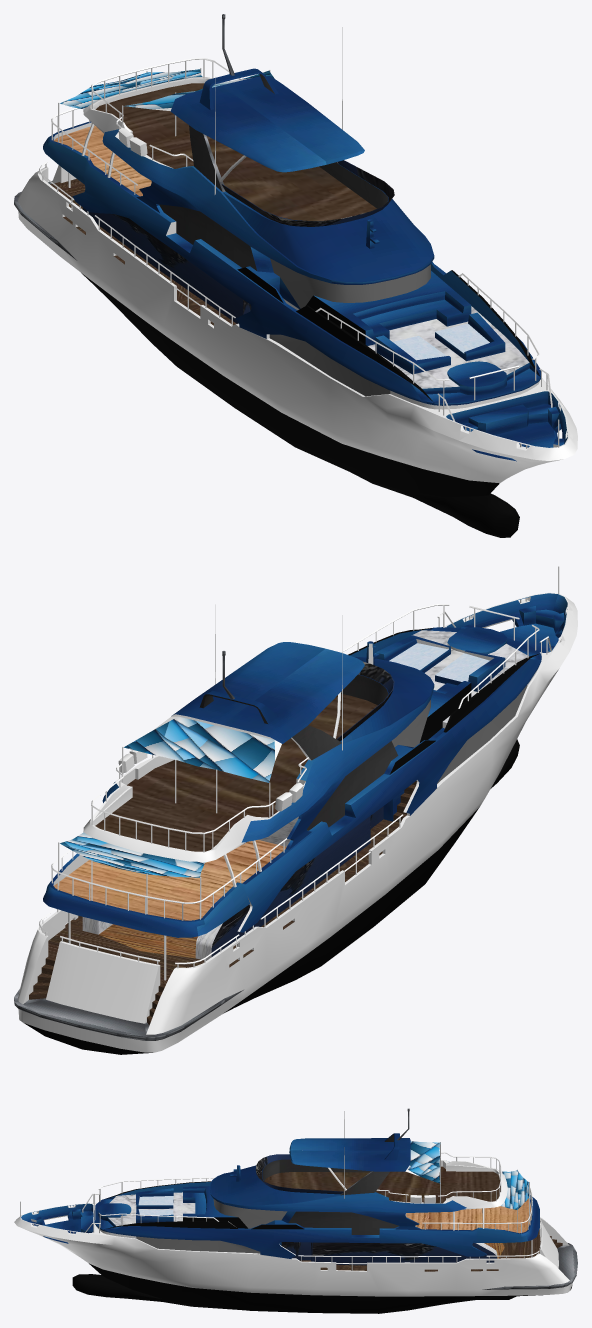
File: yatch_ii.glb
The picture shows the model from 3 angles, top to bottom: view 1: azimuth 30°, elevation 25°; view 2: azimuth 150°, elevation 25°; view 3: azimuth 270°, elevation 25°; orthographic projection. The views are drawn at different scales.
Visible parts, largest first — view 1: Object_10, Object_4, Object_6, Object_8, Object_5, Object_12, Object_11, Object_16, Object_7, Object_13, Object_9; view 2: Object_4, Object_10, Object_8, Object_6, Object_16, Object_7, Object_5, Object_12, Object_9, Object_11, Object_14, Object_13; view 3: Object_4, Object_10, Object_6, Object_8, Object_5, Object_12, Object_7, Object_16, Object_11, Object_9, Object_13.
Part boxes in pixels (x1,y1,x2,y2): Object_10: [43, 68, 567, 461]; Object_4: [18, 27, 577, 483]; Object_6: [81, 258, 540, 537]; Object_8: [50, 83, 376, 325]; Object_5: [82, 160, 394, 323]; Object_12: [159, 74, 388, 270]; Object_11: [368, 306, 529, 388]; Object_16: [60, 69, 274, 109]; Object_7: [54, 125, 151, 196]; Object_13: [393, 323, 489, 360]; Object_9: [14, 14, 338, 260]; Object_4: [18, 566, 577, 1052]; Object_10: [43, 593, 567, 937]; Object_8: [29, 694, 416, 1025]; Object_6: [24, 627, 541, 1054]; Object_16: [60, 716, 274, 877]; Object_7: [54, 840, 286, 920]; Object_5: [211, 661, 394, 956]; Object_12: [199, 674, 398, 830]; Object_9: [14, 651, 243, 1040]; Object_11: [82, 630, 528, 960]; Object_14: [99, 924, 197, 958]; Object_13: [389, 643, 489, 681]; Object_4: [14, 1111, 572, 1296]; Object_10: [21, 1133, 539, 1258]; Object_6: [72, 1181, 572, 1313]; Object_8: [264, 1166, 562, 1271]; Object_5: [255, 1154, 497, 1265]; Object_12: [262, 1134, 398, 1234]; Object_7: [406, 1198, 530, 1233]; Object_16: [407, 1141, 528, 1209]; Object_11: [108, 1192, 497, 1255]; Object_9: [340, 1108, 577, 1289]; Object_13: [138, 1196, 173, 1216].
Bounding box in the file's own units: 9.17 × 17.5 × 45.08.
Materials: 13 (10 with a texture image).
